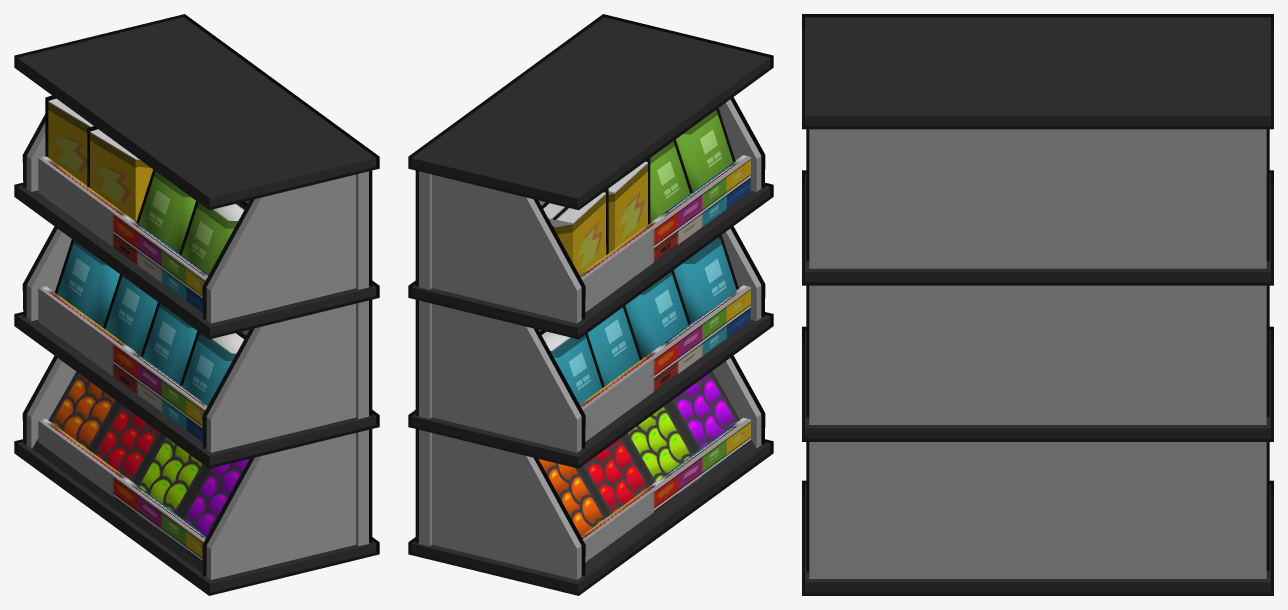
The model's file is shelf3.FBX.
3 views of the same model, side by side, from view 1: azimuth 30°, elevation 25°; view 2: azimuth 150°, elevation 25°; view 3: azimuth 270°, elevation 25° (orthographic). The views are drawn at different scales.
Parts seen in each view (by area): view 1: Box020, Object008; view 2: Box020, Object008; view 3: Box020.
Part boxes in pixels (x1,y1,x2,y2): Box020: (14, 14, 379, 595); Object008: (38, 156, 208, 562); Box020: (408, 14, 773, 595); Object008: (579, 155, 750, 562); Box020: (802, 14, 1273, 595).
Size of the model in its own units: 1.62 by 3.6 by 3.2.
